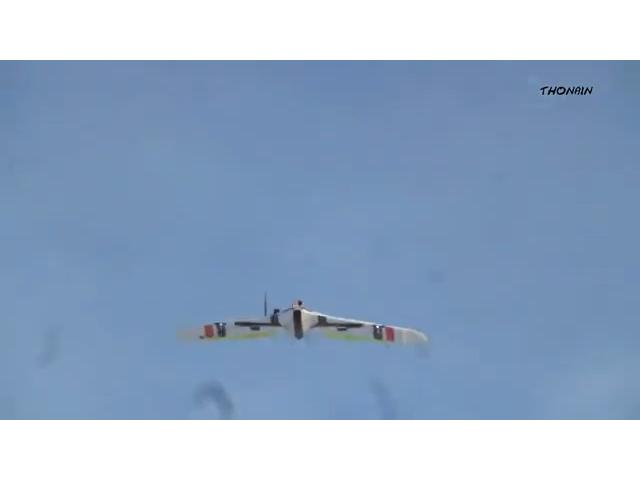Anti-Drone: (165, 280, 437, 358)
